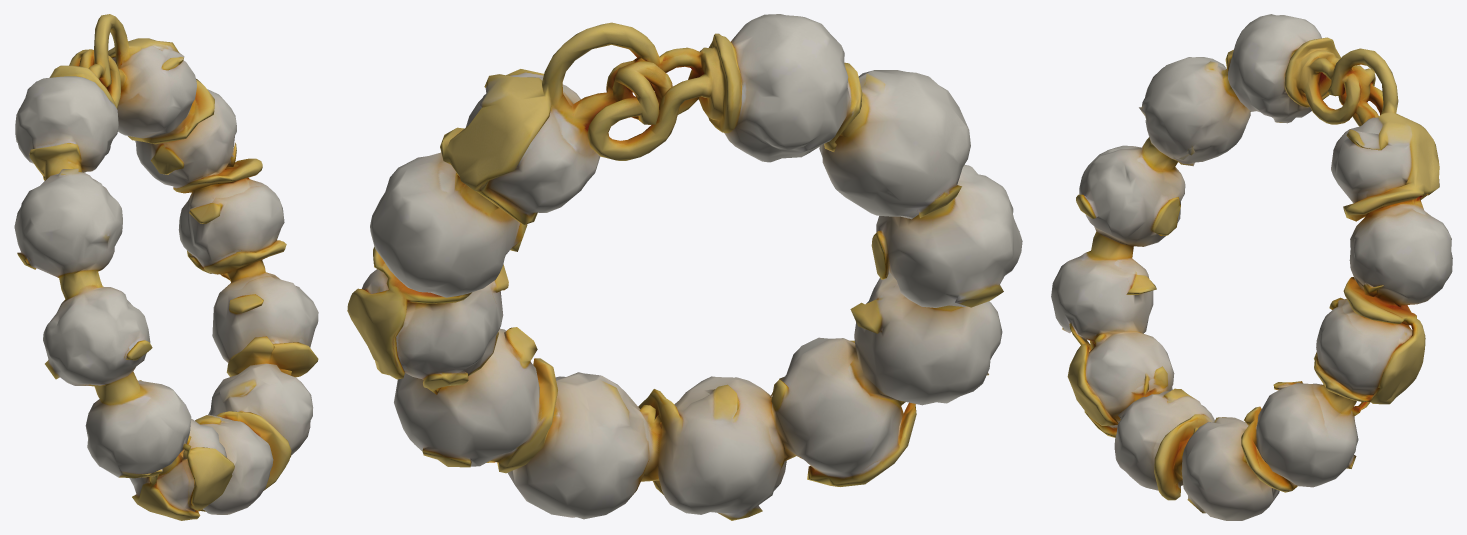
Rendered from pearl_necklace.glb.
3 views of the same model, side by side, from view 1: azimuth 30°, elevation 25°; view 2: azimuth 150°, elevation 25°; view 3: azimuth 270°, elevation 25° (orthographic). The views are drawn at different scales.
Visible parts, largest first — view 1: tripo_node_36788f4c-e844-41a0-a501-cbea8de9e9e8; view 2: tripo_node_36788f4c-e844-41a0-a501-cbea8de9e9e8; view 3: tripo_node_36788f4c-e844-41a0-a501-cbea8de9e9e8.
Part boxes in pixels (left/top/right/bottom): tripo_node_36788f4c-e844-41a0-a501-cbea8de9e9e8: left=14, top=14, right=318, bottom=520; tripo_node_36788f4c-e844-41a0-a501-cbea8de9e9e8: left=347, top=14, right=1022, bottom=520; tripo_node_36788f4c-e844-41a0-a501-cbea8de9e9e8: left=1051, top=14, right=1452, bottom=520.
Size of the model in its own units: 0.8375 by 0.9798 by 0.8316.
1 material, 1 textured.
